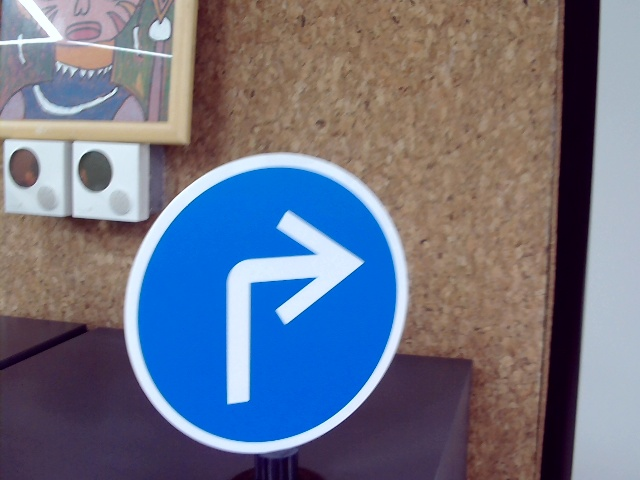turn_right: (203, 208, 360, 408)
